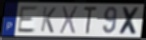9: (102, 6, 118, 37)
E: (17, 6, 40, 34)
K: (39, 6, 57, 35)
T: (82, 6, 99, 36)
X: (118, 6, 141, 36), (58, 6, 80, 36)
